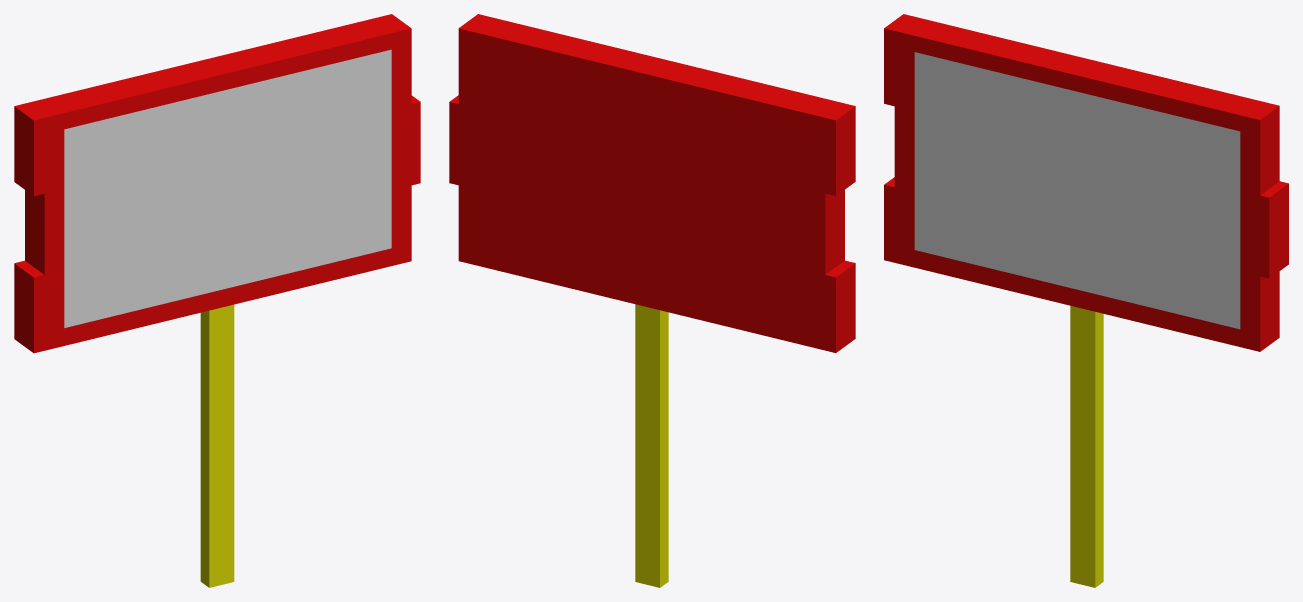
Rendered from SignBase.fbx.
3 renders of one model, left to right at view 1: azimuth 30°, elevation 25°; view 2: azimuth 150°, elevation 25°; view 3: azimuth 330°, elevation 25°, orthographic.
Visible parts, largest first — view 1: pCube1; view 2: pCube1; view 3: pCube1.
Boxes of the visible parts, box(x1,y1,x2,y2) form: pCube1: box(14, 14, 420, 587); pCube1: box(449, 14, 855, 587); pCube1: box(884, 14, 1288, 587).
Size of the model in its own units: 11.36 by 1 by 14.48.
